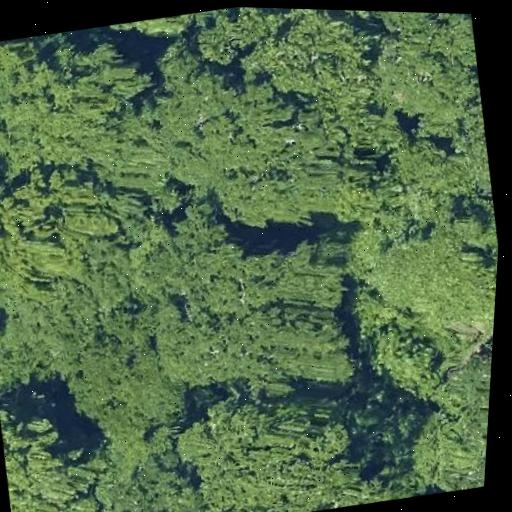tree-top: (25, 264, 202, 453), (0, 19, 185, 193), (188, 272, 378, 415), (173, 377, 370, 512), (146, 56, 297, 196), (370, 203, 501, 359), (0, 158, 138, 292), (107, 173, 242, 309), (244, 7, 391, 129), (217, 230, 363, 343), (362, 11, 483, 140), (398, 359, 491, 495), (0, 399, 110, 512), (380, 123, 479, 227), (96, 444, 209, 512), (111, 8, 212, 50), (304, 9, 393, 23)
